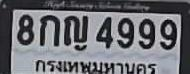4: (95, 16, 112, 48)
8: (16, 13, 33, 44)
9: (159, 18, 176, 49), (116, 17, 133, 47), (138, 18, 154, 48)
A01: (39, 14, 59, 45)
A13: (63, 14, 87, 46)
BKK: (33, 56, 161, 74)
